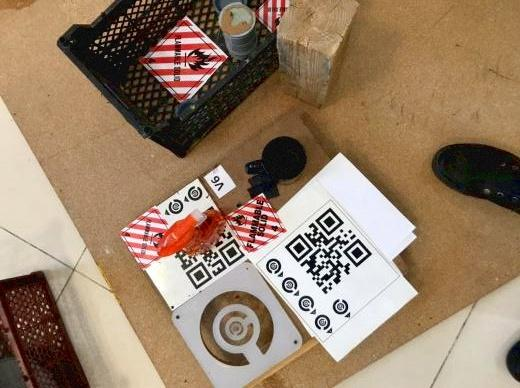flammable-solid: (146, 21, 221, 100), (117, 201, 179, 270), (223, 193, 286, 255), (255, 1, 291, 35)
